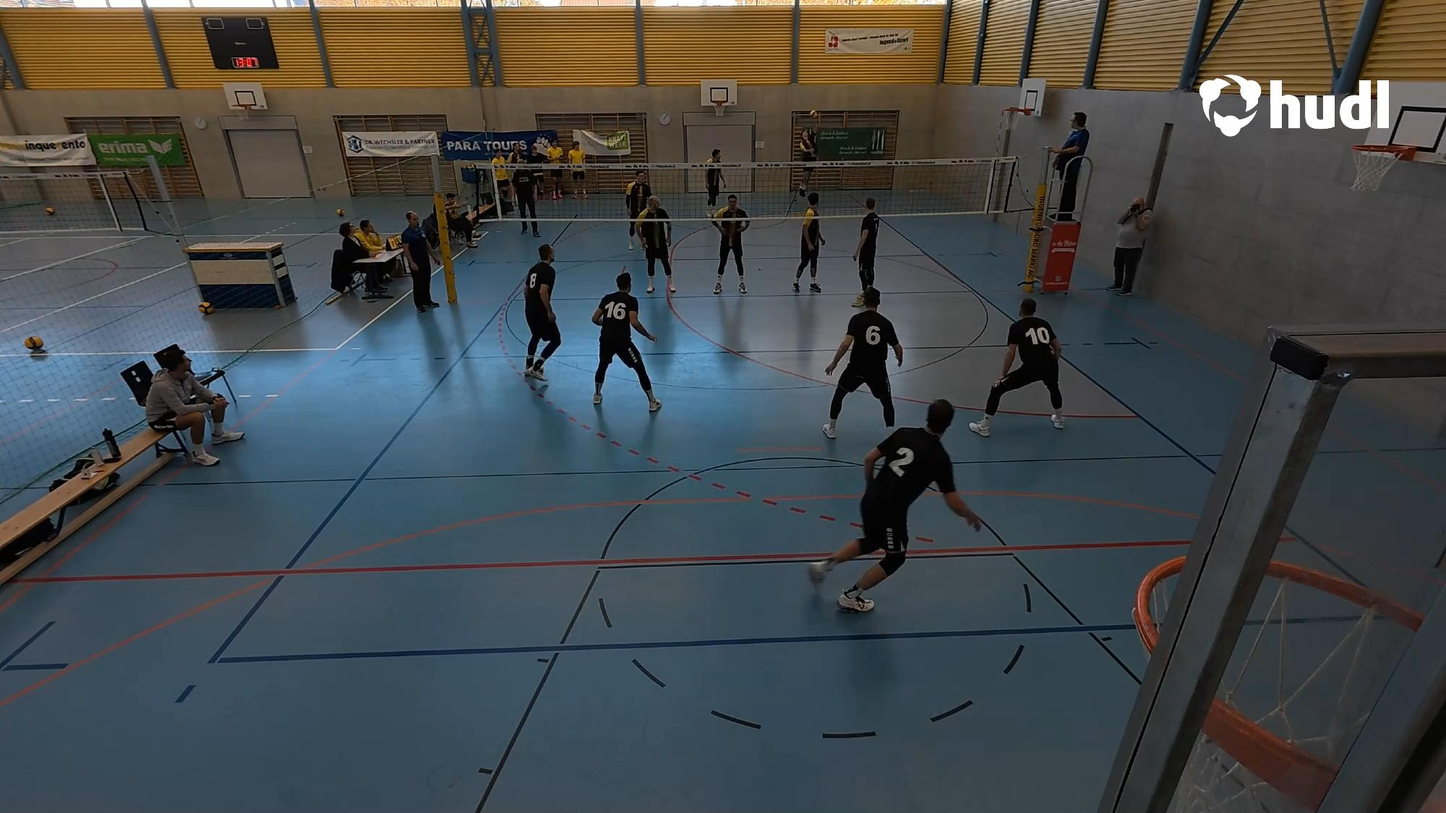battuta: (793, 96, 824, 196)
